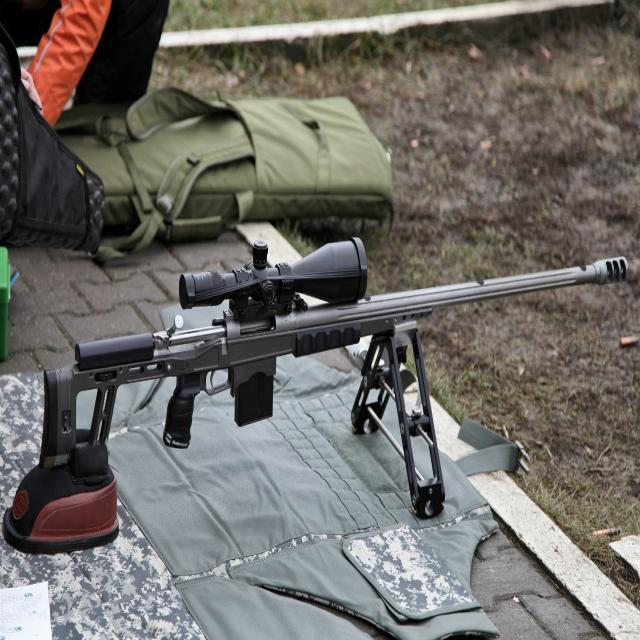firearm: (36, 235, 628, 528)
